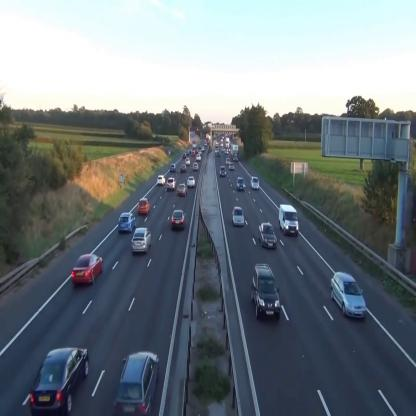car: (30, 345, 89, 416), (113, 350, 160, 416), (330, 271, 367, 323), (251, 263, 281, 322), (70, 253, 104, 288), (130, 226, 152, 255), (258, 223, 277, 250), (118, 212, 136, 235), (171, 209, 187, 232), (232, 206, 244, 228), (138, 198, 150, 217), (166, 177, 177, 192), (177, 183, 188, 198), (236, 177, 246, 191), (250, 176, 260, 190), (156, 174, 166, 186), (187, 176, 196, 187), (219, 165, 227, 177), (192, 161, 199, 172), (180, 164, 187, 174), (170, 162, 176, 173), (229, 162, 234, 171)
lorry: (278, 201, 299, 237)
